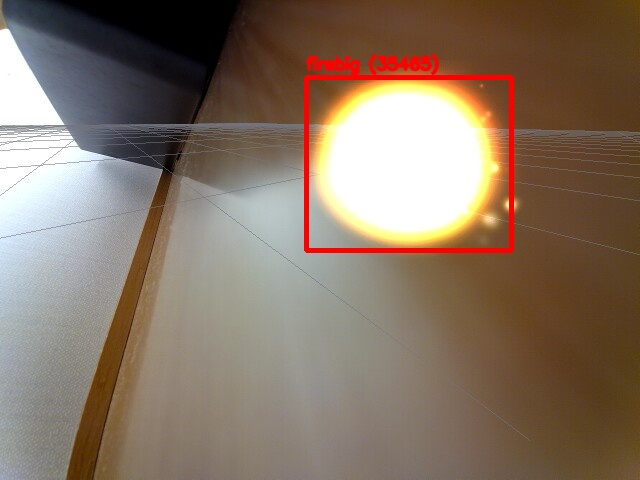firebig: (306, 77, 511, 250)
